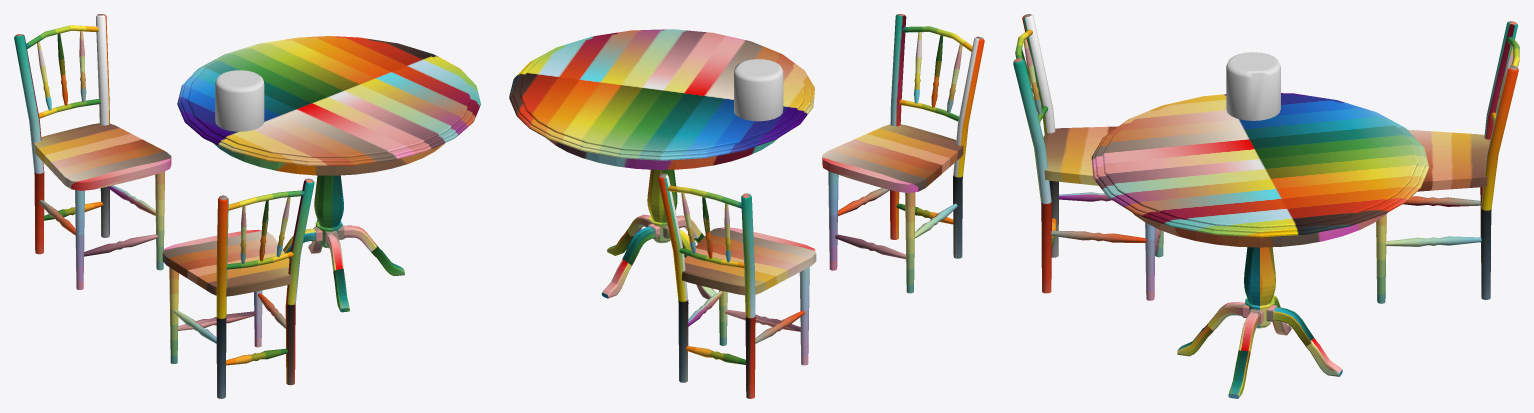
The model's file is daoju.fbx.
3 renders of one model, left to right at view 1: azimuth 30°, elevation 25°; view 2: azimuth 150°, elevation 25°; view 3: azimuth 270°, elevation 25°, orthographic. The views are drawn at different scales.
Parts seen in each view (by area): view 1: zhuozi, Chair03, Chair04, biezi; view 2: zhuozi, Chair04, Chair03, biezi; view 3: zhuozi, Chair04, Chair03, biezi.
Part boxes in pixels (bbox=[...]): zhuozi: bbox=[177, 36, 480, 312]; Chair03: bbox=[14, 14, 171, 289]; Chair04: bbox=[162, 178, 314, 398]; biezi: bbox=[215, 70, 264, 131]; zhuozi: bbox=[509, 29, 814, 299]; Chair04: bbox=[822, 14, 984, 293]; Chair03: bbox=[658, 173, 816, 398]; biezi: bbox=[734, 59, 783, 121]; zhuozi: bbox=[1091, 93, 1429, 398]; Chair04: bbox=[1013, 14, 1163, 300]; Chair03: bbox=[1376, 21, 1519, 303]; biezi: bbox=[1226, 52, 1280, 120].
Bounding box in the file's own units: 1.5 × 0.9377 × 1.7.
